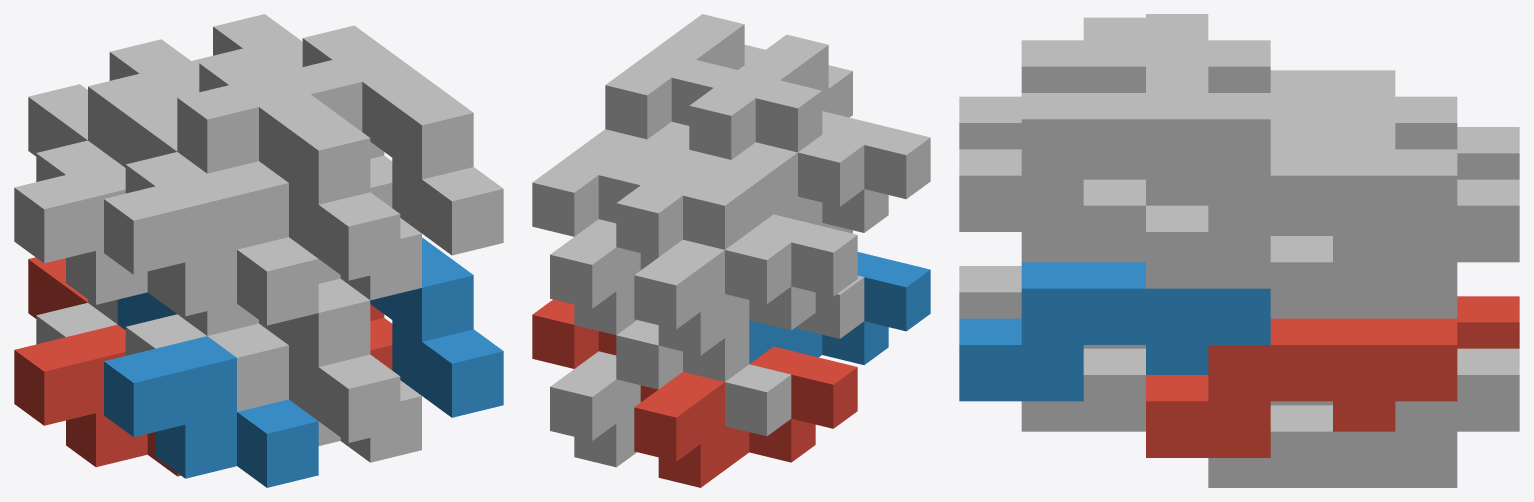
Rendered from tiling.obj.
The picture shows the model from 3 angles, left to right: view 1: azimuth 30°, elevation 25°; view 2: azimuth 150°, elevation 25°; view 3: azimuth 270°, elevation 25°; orthographic projection. The views are drawn at different scales.
Parts seen in each view (by area): view 1: copy_2_domain_4, copy_1_domain_4, copy_2_domain_8, copy_1_domain_2, copy_2_domain_2, copy_1_domain_3, copy_1_domain_1, copy_2_domain_6, copy_2_domain_3, copy_1_domain_8, copy_1_domain_6, copy_2_domain_7 (+2 smaller); view 2: copy_2_domain_4, copy_1_domain_1, copy_1_domain_3, copy_2_domain_3, copy_1_domain_4, copy_2_domain_8, copy_2_domain_1, copy_1_domain_2, copy_2_domain_7, copy_1_domain_5, copy_1_domain_7, copy_2_domain_5 (+2 smaller); view 3: copy_2_domain_8, copy_2_domain_7, copy_2_domain_5, copy_2_domain_6, copy_1_domain_5, copy_1_domain_7, copy_2_domain_4, copy_1_domain_8, copy_2_domain_3, copy_1_domain_6, copy_1_domain_1, copy_1_domain_3 (+2 smaller).
Part boxes in pixels (x1=…): copy_2_domain_4: x1=125, y1=50, x2=400, y2=280; copy_1_domain_4: x1=104, y1=95, x2=318, y2=325; copy_2_domain_8: x1=281, y1=25, x2=503, y2=255; copy_1_domain_2: x1=104, y1=292, x2=318, y2=487; copy_2_domain_2: x1=125, y1=278, x2=400, y2=442; copy_1_domain_3: x1=14, y1=84, x2=177, y2=313; copy_1_domain_1: x1=14, y1=257, x2=180, y2=476; copy_2_domain_6: x1=370, y1=237, x2=503, y2=417; copy_2_domain_3: x1=36, y1=39, x2=199, y2=181; copy_1_domain_8: x1=207, y1=161, x2=421, y2=300; copy_1_domain_6: x1=207, y1=323, x2=421, y2=462; copy_2_domain_7: x1=191, y1=14, x2=392, y2=207; copy_2_domain_4: x1=689, y1=34, x2=864, y2=206; copy_1_domain_1: x1=634, y1=346, x2=857, y2=487; copy_1_domain_3: x1=634, y1=214, x2=857, y2=355; copy_2_domain_3: x1=616, y1=150, x2=791, y2=303; copy_1_domain_4: x1=707, y1=117, x2=930, y2=232; copy_2_domain_8: x1=605, y1=14, x2=765, y2=139; copy_2_domain_1: x1=616, y1=320, x2=791, y2=436; copy_1_domain_2: x1=749, y1=252, x2=930, y2=364; copy_2_domain_7: x1=532, y1=129, x2=664, y2=269; copy_1_domain_5: x1=550, y1=351, x2=640, y2=467; copy_1_domain_7: x1=550, y1=219, x2=640, y2=335; copy_2_domain_5: x1=532, y1=299, x2=657, y2=402; copy_2_domain_8: x1=959, y1=66, x2=1270, y2=231; copy_2_domain_7: x1=1146, y1=123, x2=1457, y2=288; copy_2_domain_5: x1=1146, y1=318, x2=1457, y2=457; copy_2_domain_6: x1=959, y1=262, x2=1270, y2=401; copy_1_domain_5: x1=1208, y1=348, x2=1519, y2=487; copy_1_domain_7: x1=1270, y1=179, x2=1519, y2=318; copy_2_domain_4: x1=959, y1=14, x2=1270, y2=149; copy_1_domain_8: x1=1021, y1=123, x2=1332, y2=262; copy_2_domain_3: x1=1270, y1=70, x2=1457, y2=149; copy_1_domain_6: x1=1021, y1=345, x2=1145, y2=431; copy_1_domain_1: x1=1457, y1=296, x2=1519, y2=348; copy_1_domain_3: x1=1457, y1=127, x2=1519, y2=179.
Size of the model in its own units: 6 by 7 by 9.
